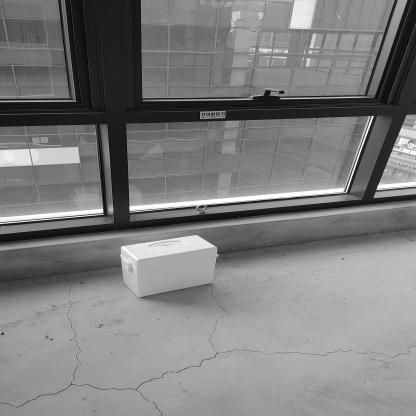DDL: (124, 234, 216, 298)
